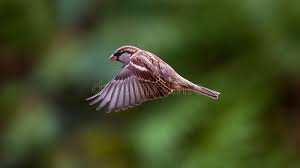hsparrow: (82, 43, 222, 119)
